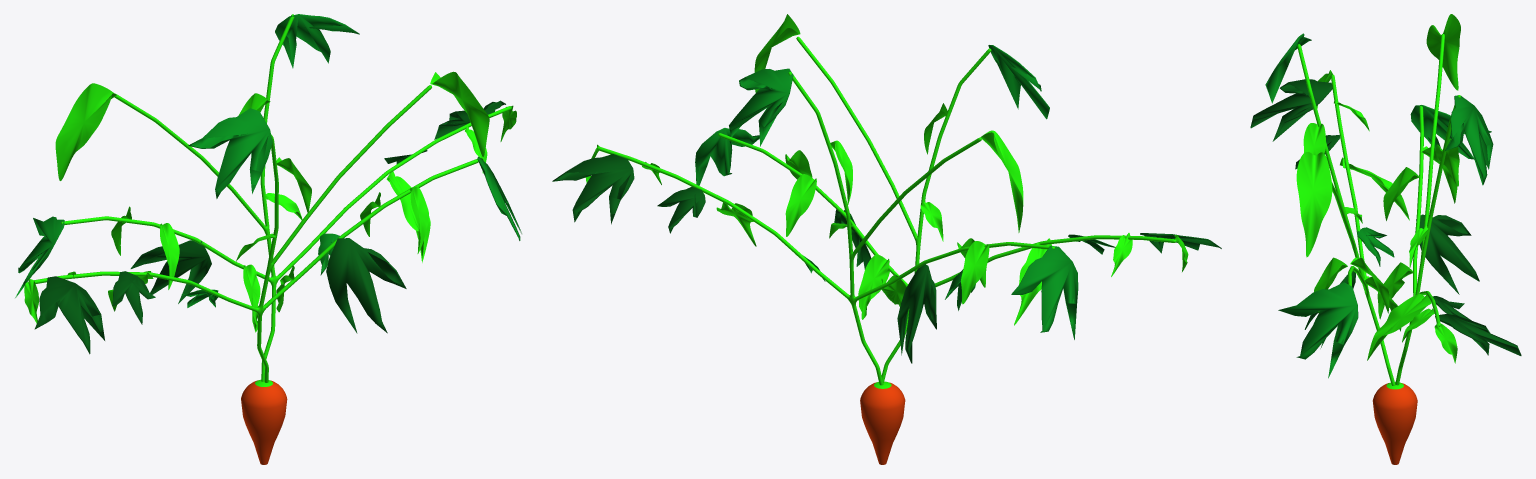
File: Carotte_Croissance_3.fbx
3 renders of one model, left to right at view 1: azimuth 30°, elevation 25°; view 2: azimuth 150°, elevation 25°; view 3: azimuth 270°, elevation 25°, orthographic. The views are drawn at different scales.
Parts seen in each view (by area): view 1: Branche.001, Branche, Feuille_1.010, Feuille_1.008, Sphere, Feuille_1.006, Feuille_Base_1.008, Feuille_1.004, Feuille_1.002, Feuille_Base_1.017, Feuille_1.003, Feuille_1.011 (+7 smaller); view 2: Branche, Branche.001, Feuille_1.003, Feuille_1, Sphere, Feuille_1.002, Feuille_1.004, Feuille_1.009, Feuille_1.008, Feuille_Base_1.008, Feuille_Base_1.002, Feuille_Base_1.009 (+3 smaller); view 3: Feuille_1.009, Branche, Feuille_Base_1.017, Sphere, Branche.001, Feuille_1.004, Feuille_1.002, Feuille_1.006, Feuille_Base_1.008, Feuille_Base_1.001, Feuille_1, Feuille_1.003 (+14 smaller).
Boxes of the visible parts, bbox=[...] form: Branche.001: bbox=[28, 85, 478, 382]; Branche: bbox=[61, 14, 511, 381]; Feuille_1.010: bbox=[326, 238, 406, 333]; Feuille_1.008: bbox=[188, 108, 272, 198]; Sphere: bbox=[241, 379, 287, 464]; Feuille_1.006: bbox=[34, 276, 104, 354]; Feuille_Base_1.008: bbox=[55, 83, 116, 180]; Feuille_1.004: bbox=[130, 240, 211, 303]; Feuille_1.002: bbox=[275, 14, 359, 68]; Feuille_Base_1.017: bbox=[430, 71, 489, 156]; Feuille_1.003: bbox=[15, 216, 64, 297]; Feuille_1.011: bbox=[112, 271, 155, 324]; Branche: bbox=[596, 71, 1054, 385]; Branche.001: bbox=[718, 36, 1176, 382]; Feuille_1.003: bbox=[1011, 245, 1078, 339]; Feuille_1: bbox=[552, 154, 634, 224]; Sphere: bbox=[860, 381, 905, 464]; Feuille_1.002: bbox=[729, 68, 793, 146]; Feuille_1.004: bbox=[897, 264, 936, 363]; Feuille_1.009: bbox=[695, 128, 759, 185]; Feuille_1.008: bbox=[988, 45, 1049, 119]; Feuille_Base_1.008: bbox=[980, 130, 1023, 232]; Feuille_Base_1.002: bbox=[961, 241, 989, 304]; Feuille_Base_1.009: bbox=[785, 174, 816, 236]; Feuille_1.009: bbox=[1278, 282, 1358, 378]; Branche: bbox=[1395, 33, 1460, 385]; Feuille_Base_1.017: bbox=[1296, 152, 1332, 257]; Sphere: bbox=[1372, 382, 1417, 464]; Branche.001: bbox=[1297, 44, 1395, 385]; Feuille_1.004: bbox=[1416, 214, 1479, 294]; Feuille_1.002: bbox=[1445, 95, 1493, 185]; Feuille_1.006: bbox=[1250, 79, 1332, 141]; Feuille_Base_1.008: bbox=[1426, 14, 1460, 90]; Feuille_Base_1.001: bbox=[1367, 294, 1431, 360]; Feuille_1: bbox=[1435, 314, 1521, 355]; Feuille_1.003: bbox=[1410, 105, 1491, 159].
Size of the model in its own units: 338 by 229 by 141.
